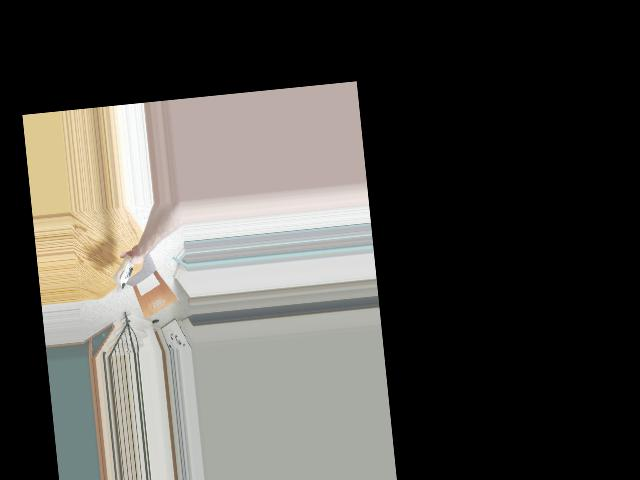cheese: (110, 253, 138, 290)
